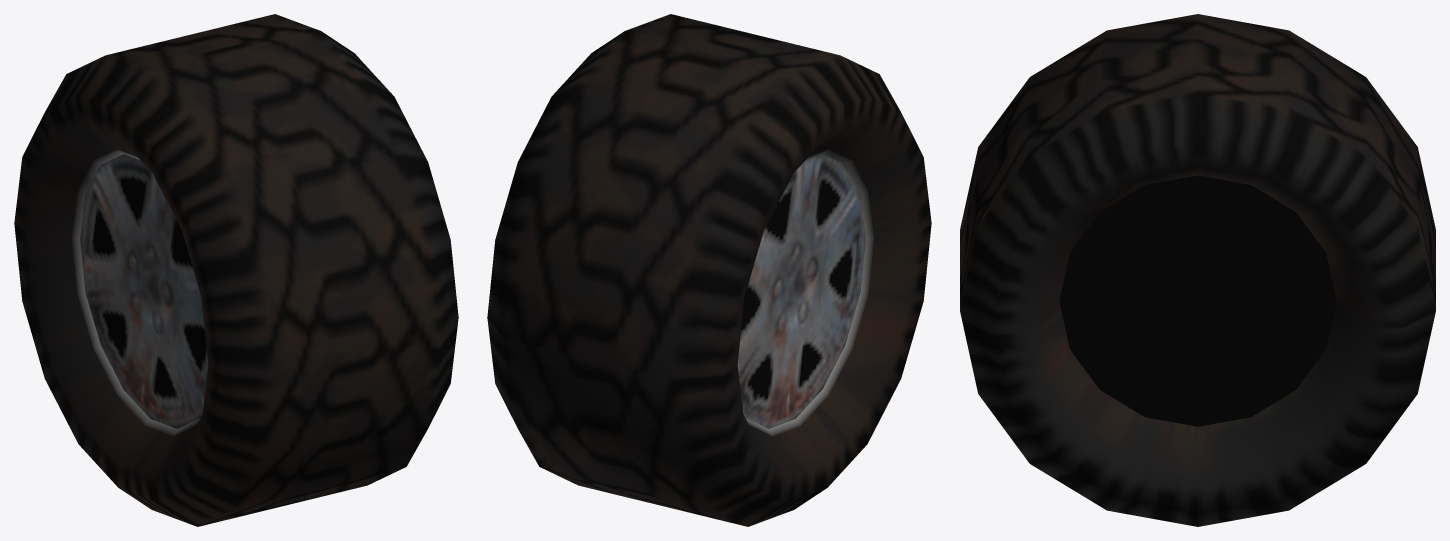
File: WheelMedThick.FBX
3 renders of one model, left to right at view 1: azimuth 30°, elevation 25°; view 2: azimuth 150°, elevation 25°; view 3: azimuth 270°, elevation 25°, orthographic.
Visible parts, largest first — view 1: Wheel_MedThick; view 2: Wheel_MedThick; view 3: Wheel_MedThick.
Part boxes in pixels (x1,y1,x2,y2): Wheel_MedThick: (14,14,458,526); Wheel_MedThick: (487,14,931,526); Wheel_MedThick: (960,14,1435,526).
Size of the model in its own units: 2.04 by 3.61 by 3.61.
Materials: 1 (1 with a texture image).
